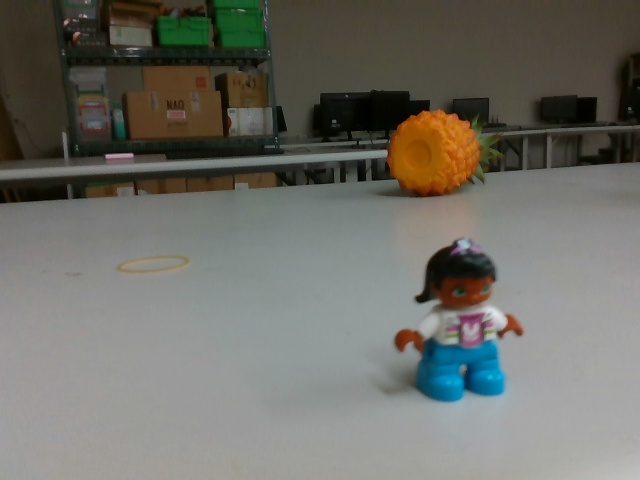people: (395, 237, 525, 405)
pineapple: (380, 106, 504, 194)
